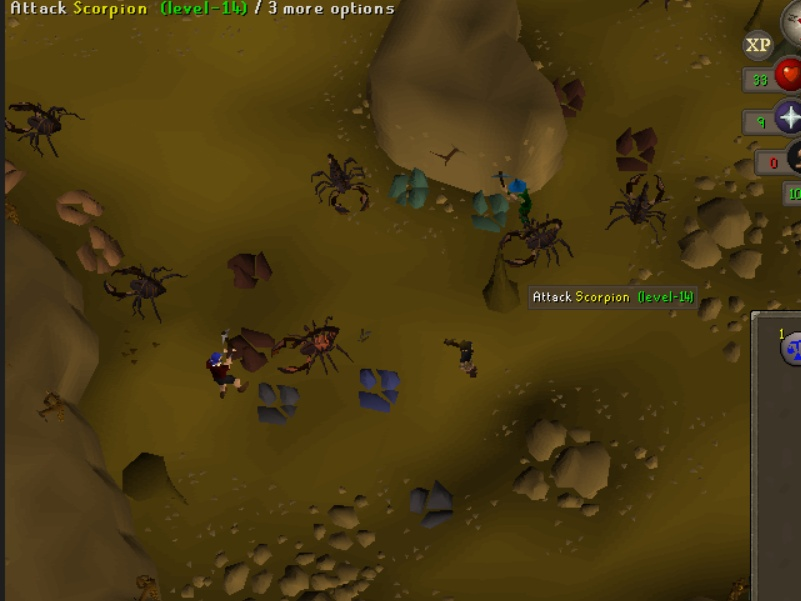adamant: (386, 164, 437, 213), (464, 183, 515, 232)
copper: (51, 183, 110, 230), (71, 227, 130, 274), (1, 152, 29, 197)
iron: (222, 246, 277, 293), (610, 126, 665, 173), (226, 324, 281, 371), (552, 75, 593, 117)
mithril: (354, 363, 405, 412)
